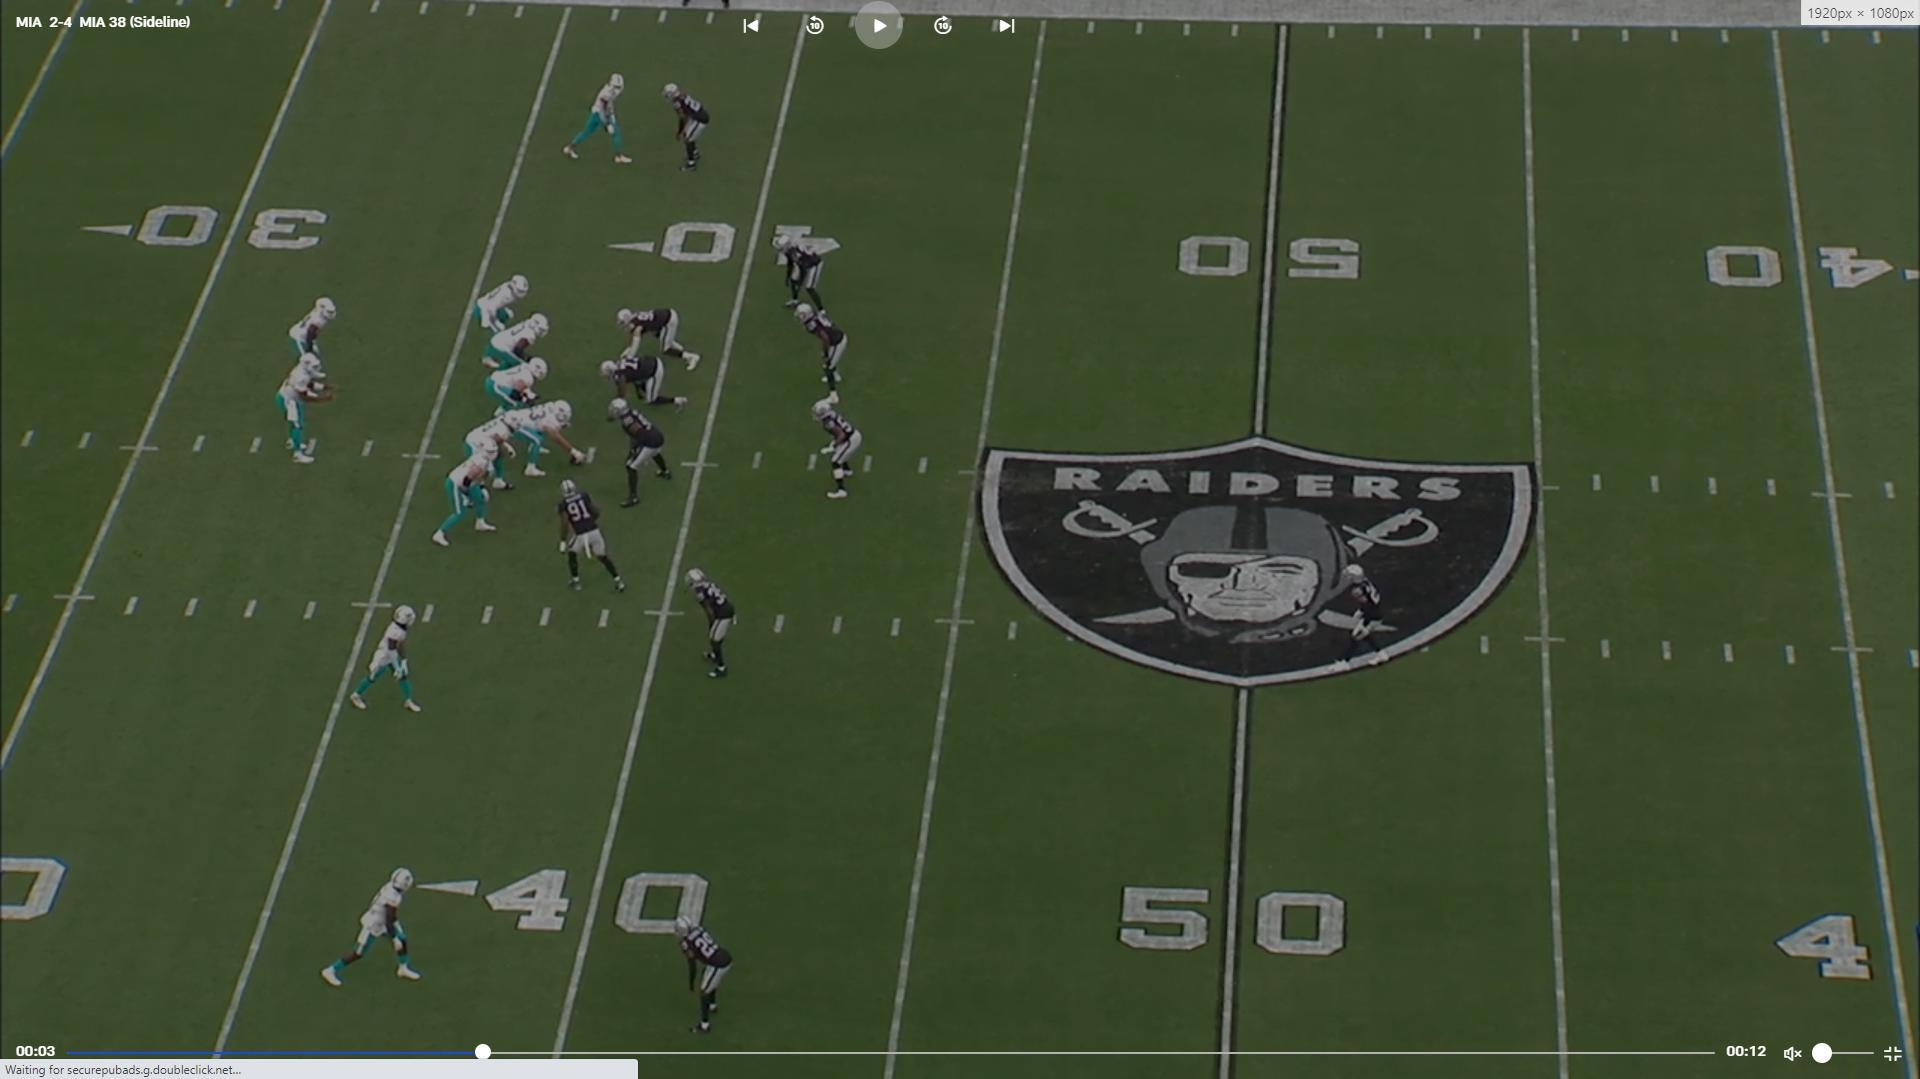player: (312, 863, 430, 996), (341, 601, 429, 721), (550, 478, 626, 595), (429, 443, 505, 549), (558, 69, 634, 172), (672, 913, 734, 1034), (608, 400, 674, 510), (278, 351, 336, 472), (690, 564, 746, 683), (508, 398, 587, 478), (613, 305, 705, 372), (1336, 559, 1390, 673), (596, 353, 691, 417), (811, 394, 866, 502), (291, 295, 345, 403), (799, 302, 853, 403), (657, 78, 711, 178), (466, 410, 529, 495), (487, 312, 555, 375), (778, 230, 827, 315), (492, 358, 554, 418), (478, 273, 537, 334)
